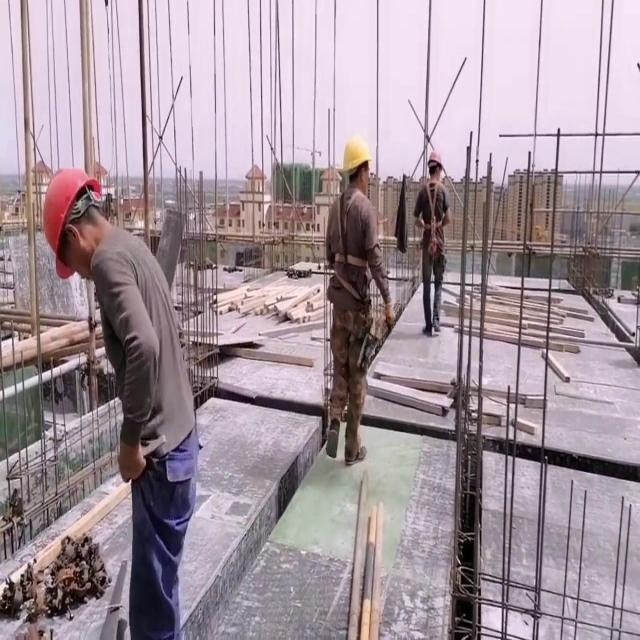Arnes_seguridad: (327, 183, 374, 280), (419, 174, 447, 248)
